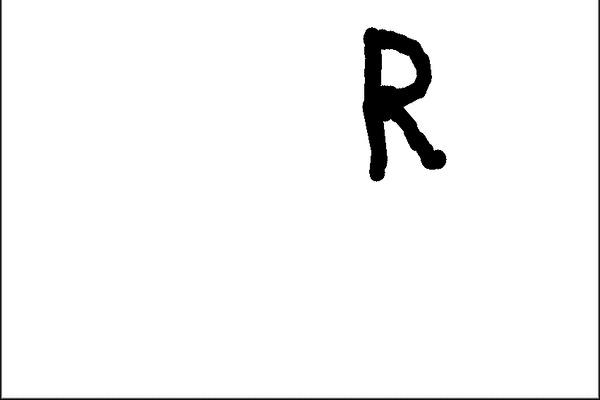R: (346, 20, 456, 190)
